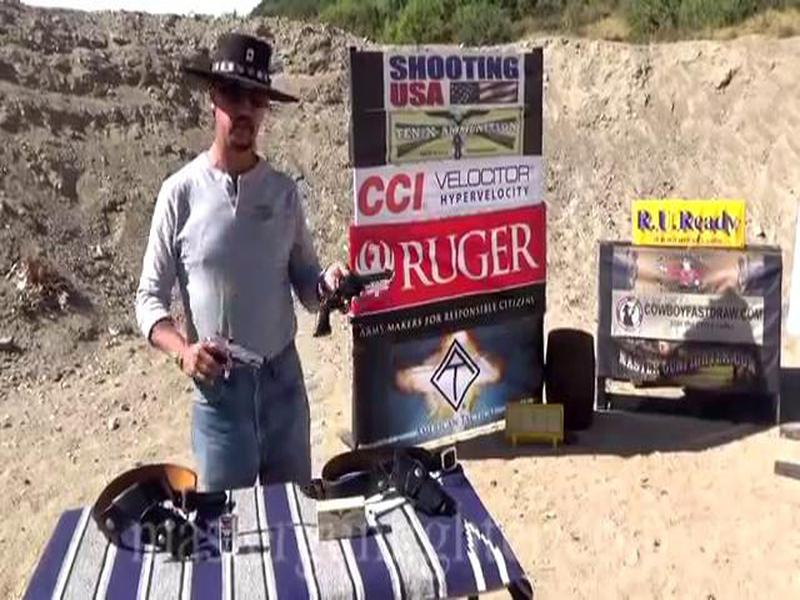Pistola: (175, 326, 277, 387)
Revolver: (306, 268, 402, 344)
